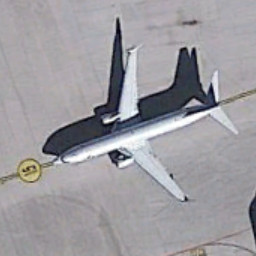Airplane: (47, 29, 243, 226)
